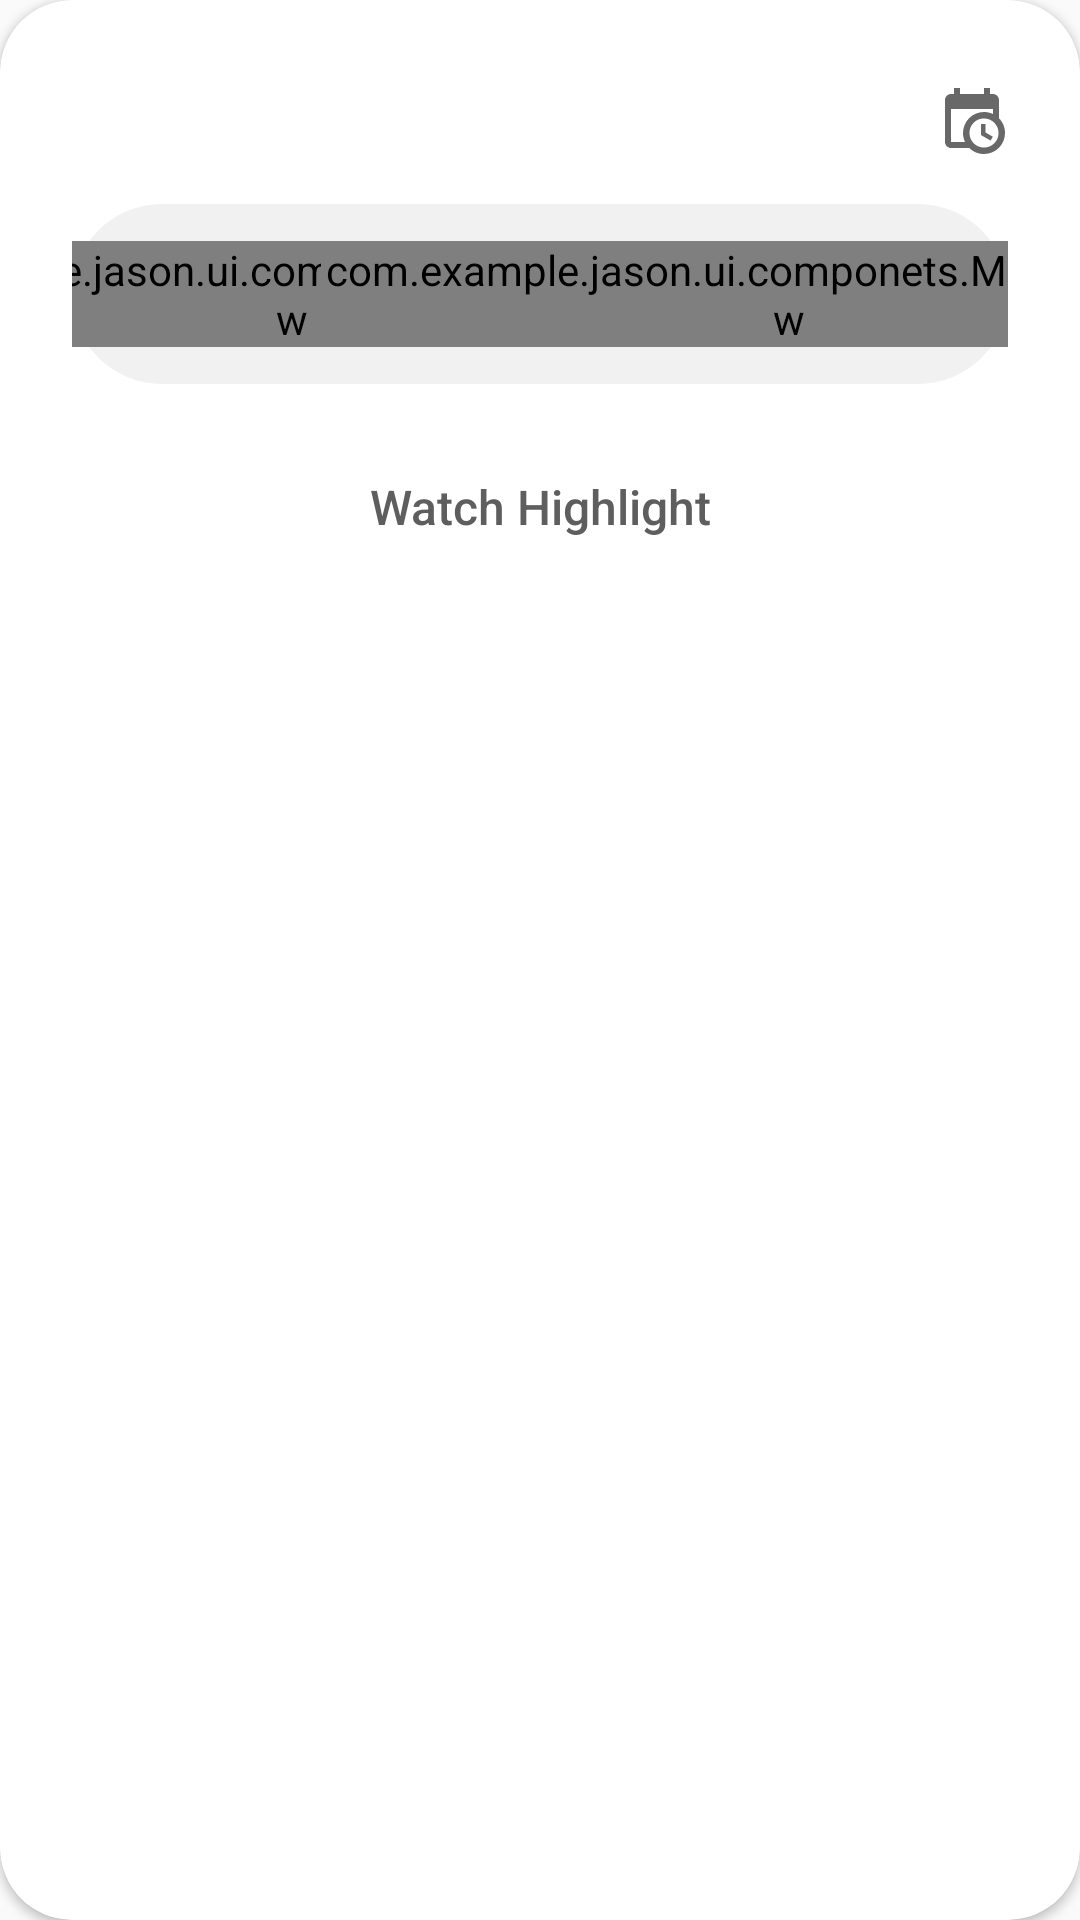

Where icons sit on this 1080×1920 app screen, as (x1, y1, x2, y2):
schedule: (945, 88, 1005, 154)
